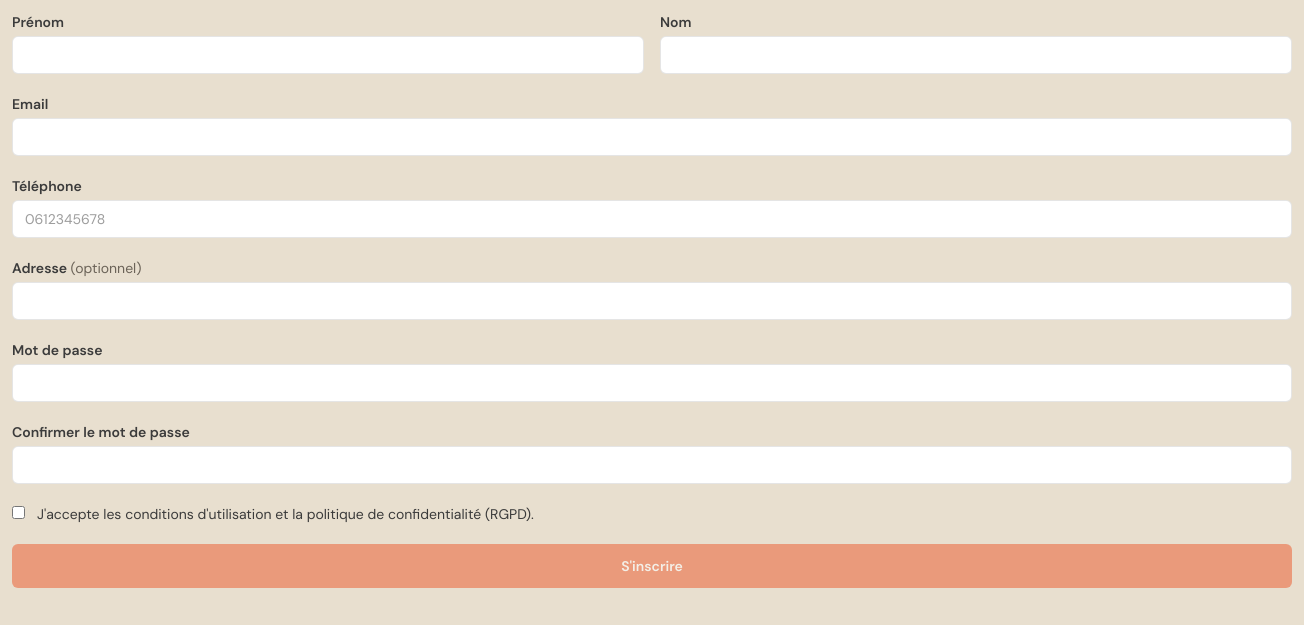
RegisterForm › affiche une erreur si le format email est invalide
Type "email-invalide" into the field labelled "Email" at (652, 137), box [12,118,1292,156]
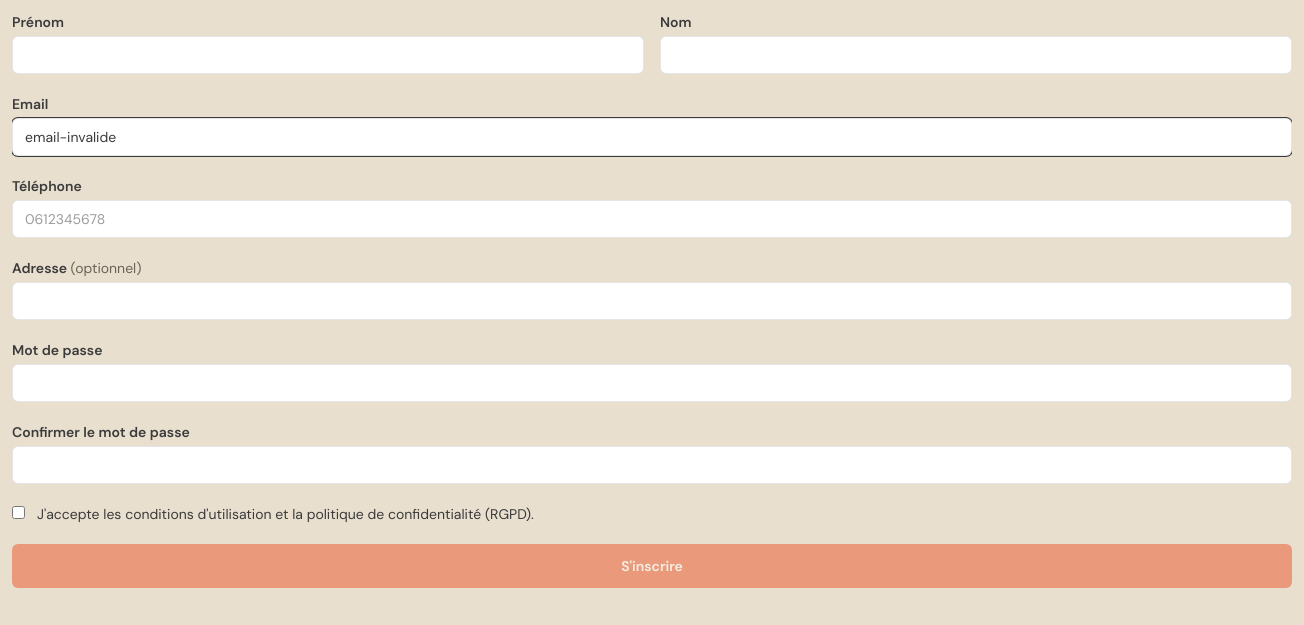
Press Tab
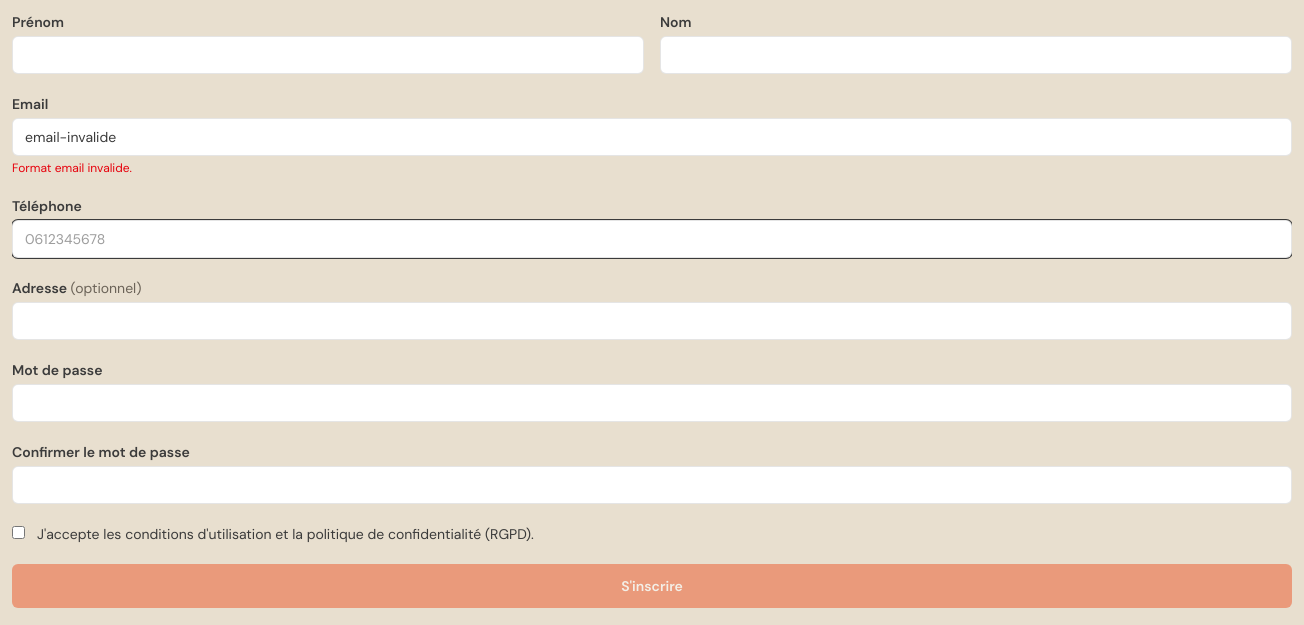
Check: the text "Format email invalide." is shown, box [12,160,132,176]
